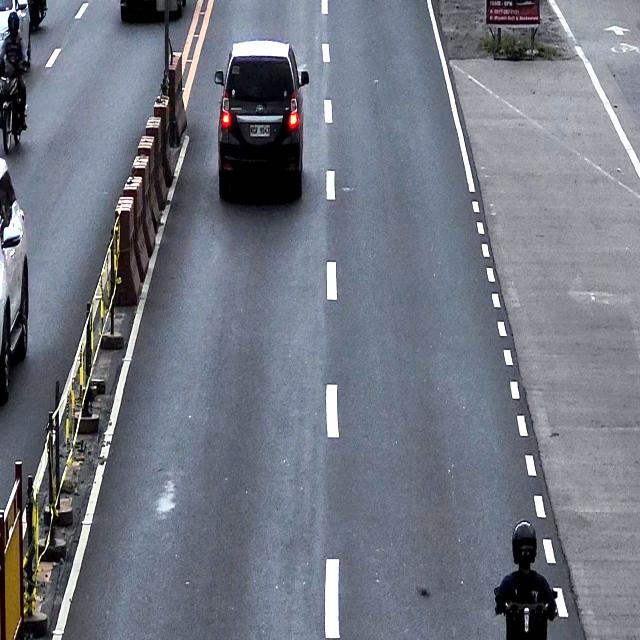Car: (214, 39, 309, 201), (0, 157, 29, 402), (0, 0, 32, 69)
License-Plate: (248, 122, 271, 138)
Motorcycle: (0, 58, 28, 154)
